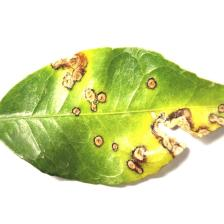canker: (44, 46, 224, 182)
